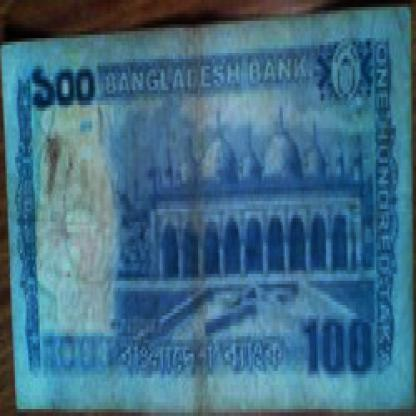one hundred taka: (303, 291, 383, 392), (29, 45, 102, 121)
